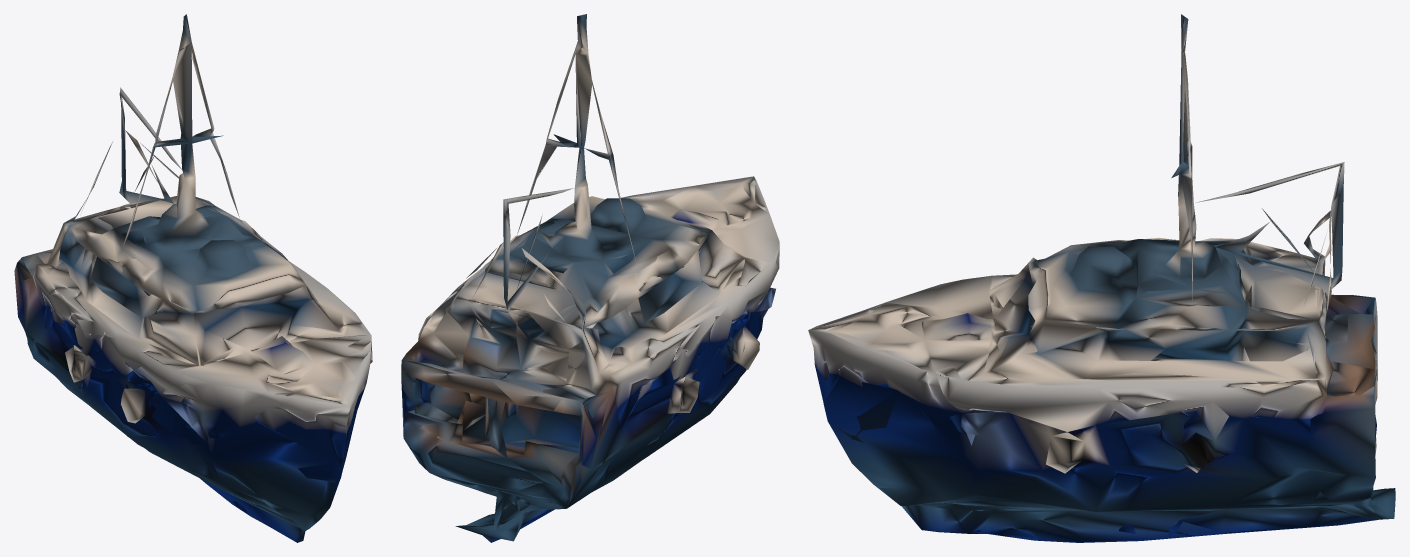
Rendered from gen3d-yacht-lod0.glb.
3 renders of one model, left to right at view 1: azimuth 30°, elevation 25°; view 2: azimuth 150°, elevation 25°; view 3: azimuth 270°, elevation 25°, orthographic. The views are drawn at different scales.
Visible parts, largest first — view 1: part_0; view 2: part_0; view 3: part_0.
Boxes of the visible parts, x1,y1,x2,y2 form: part_0: [14, 14, 372, 542]; part_0: [401, 14, 779, 542]; part_0: [808, 14, 1395, 542].
Bounding box in the file's own units: 0.4858 × 0.9901 × 1.
